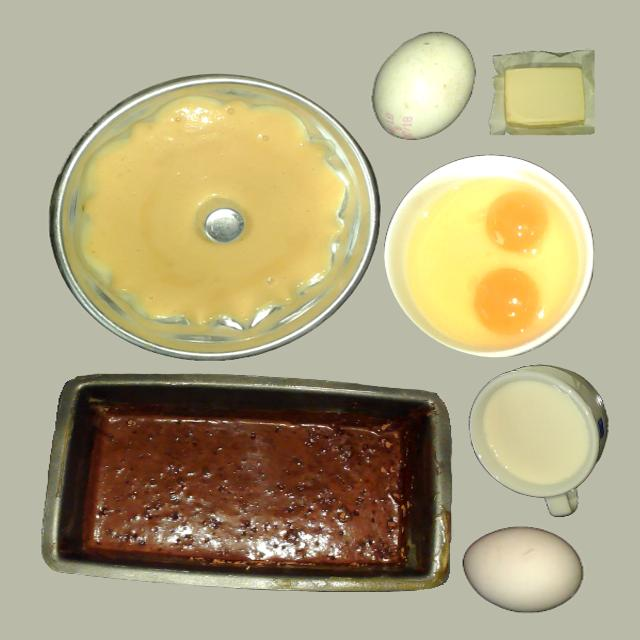Egg: (474, 268, 540, 334), (486, 191, 550, 254)
Milk: (478, 379, 590, 487)
